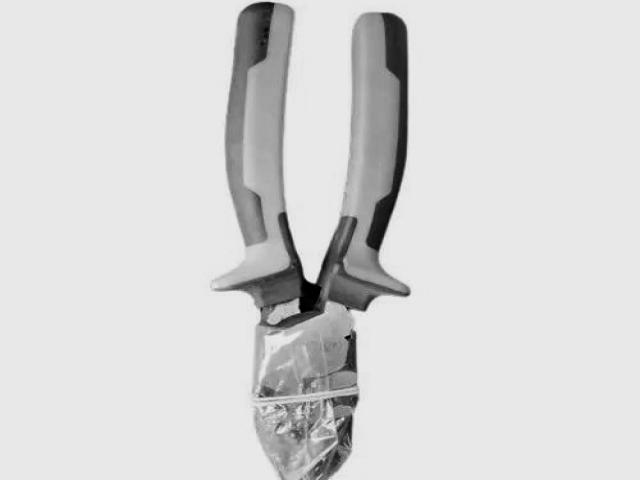Pliers: (214, 3, 410, 480)
